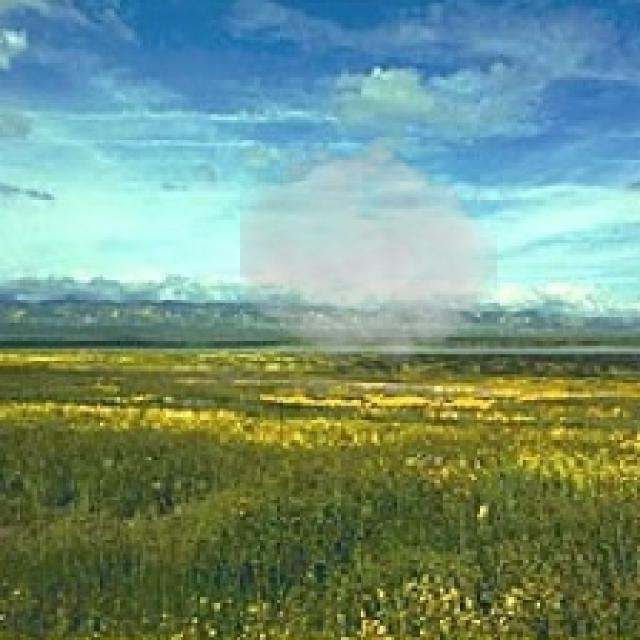smoke: (240, 134, 497, 372)
